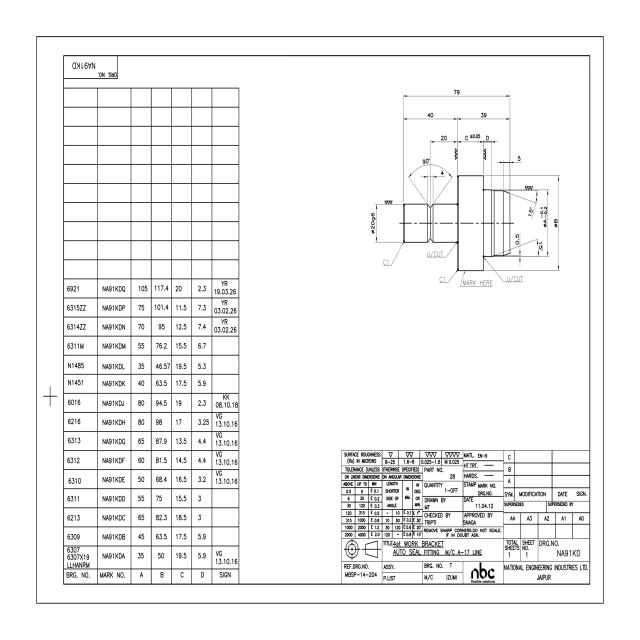dimension: (539, 206, 548, 228), (464, 132, 482, 142), (369, 210, 376, 234), (478, 110, 488, 120), (426, 110, 436, 120), (422, 156, 432, 166), (527, 205, 534, 219), (536, 241, 544, 253), (452, 87, 461, 97), (438, 274, 447, 284), (439, 133, 448, 142), (514, 233, 520, 246), (382, 258, 391, 266), (554, 216, 559, 228), (484, 133, 490, 142), (516, 154, 522, 163), (439, 168, 445, 177)
